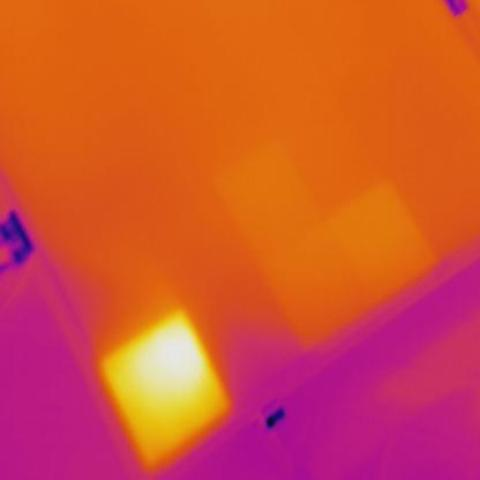fault: (120, 318, 222, 448)
